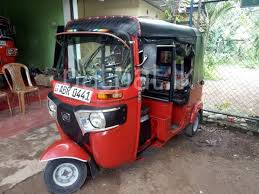tuk tuk: (37, 15, 205, 193)
